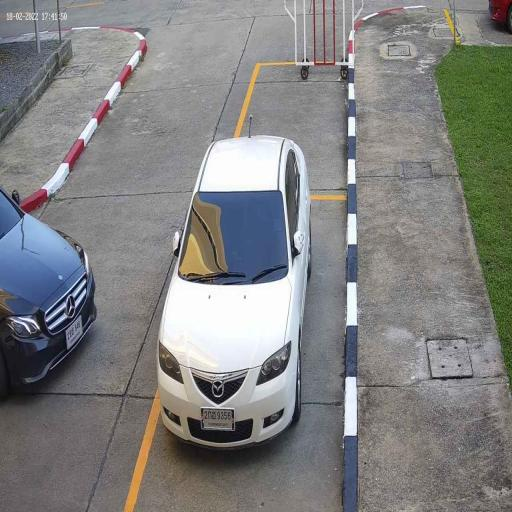car: (156, 134, 313, 451), (0, 180, 98, 406)
